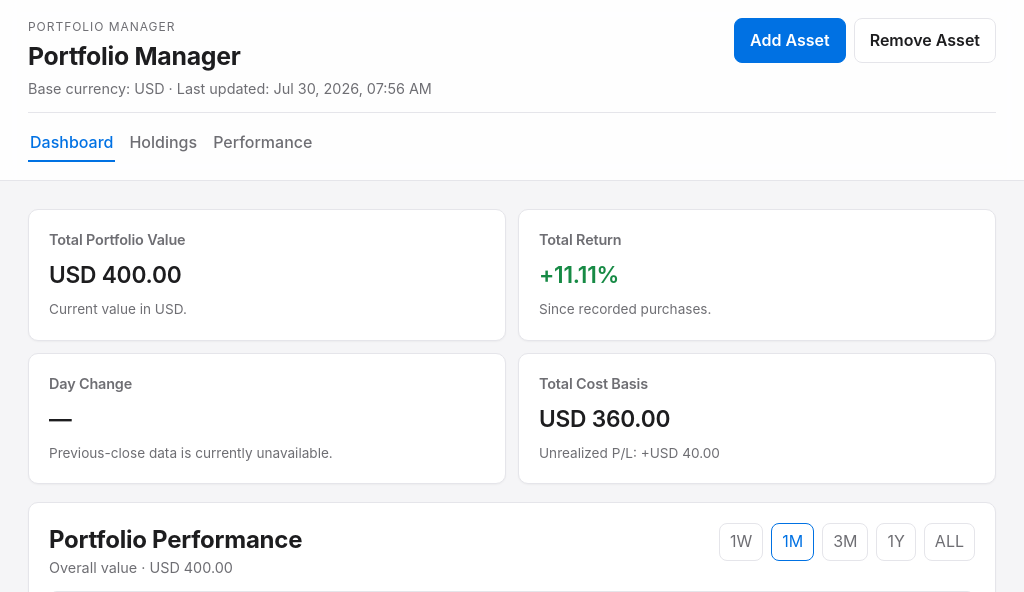
Test: Portfolio Manager frontend › switches from the overall line chart to an individual stock series
Click the link "Performance": (263, 142) left=213, top=132, right=312, bottom=152
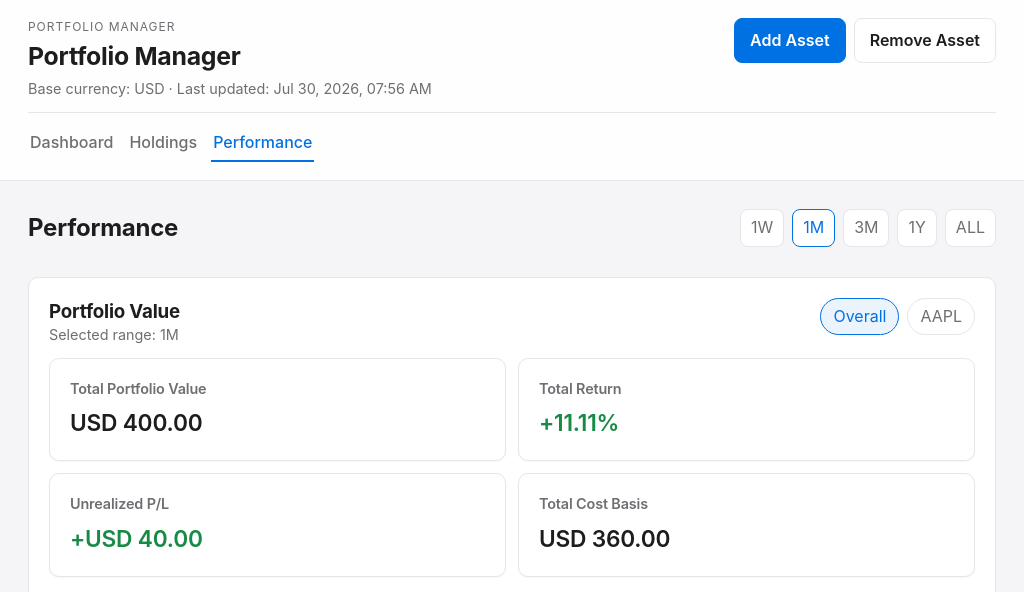
Click the button "AAPL": (941, 316) left=907, top=298, right=975, bottom=335
(page scrolled)
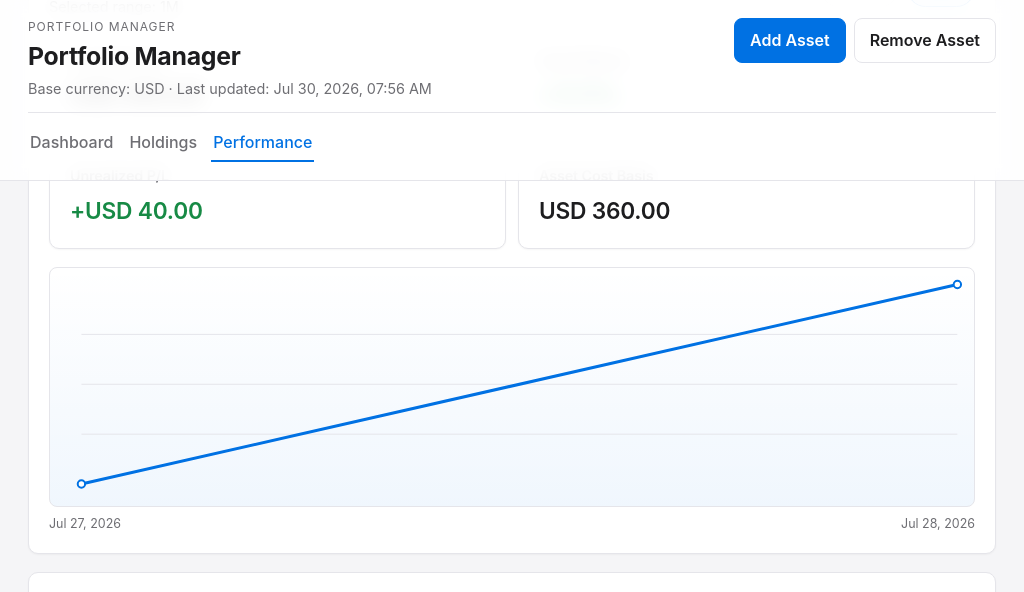
Expected: the picture named "AAPL Performance history for 1M" is shown, left=49, top=267, right=975, bottom=507
